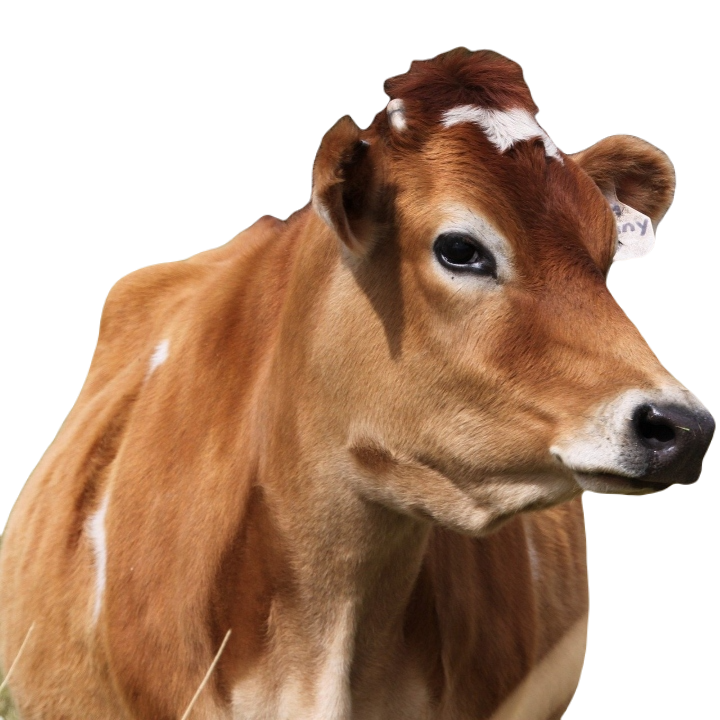Cow: (0, 46, 714, 717)
